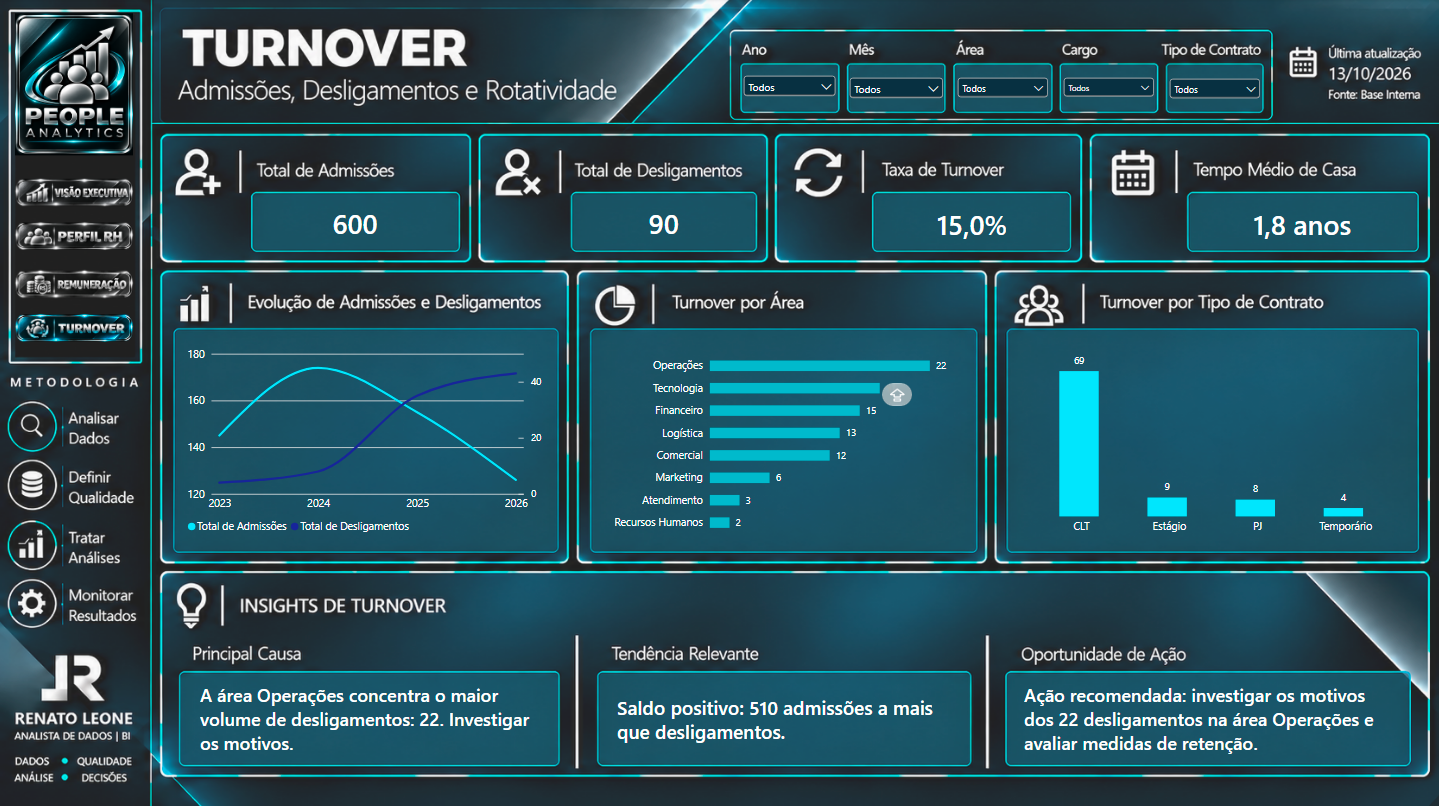

This screenshot's page, from the dashboard's own definition file:
{"tool":"powerbi","page":{"name":"TURNOVER","canvas":[1920,1080],"ordinal":3},"visuals":[{"type":"image","box":[17,216,168,83],"z":0},{"type":"image","box":[17.1,280.7,167.9,69.3],"z":1000},{"type":"image","box":[17.1,341.4,167.9,75.7],"z":2000},{"type":"image","box":[17.1,401.4,167.9,72.9],"z":3000},{"type":"image","box":[23,13,157,203],"z":4000},{"type":"slicer","fields":{"Values":["funcionarios.area"]},"box":[1271.3,101.7,129.6,42.6],"z":4001},{"type":"slicer","fields":{"Values":["funcionarios.cargo_reduzido"]},"box":[1412.2,101.7,129.6,42.6],"z":4002},{"type":"slicer","fields":{"Values":["funcionarios.tipo_contrato"]},"box":[1553.3,102,130,42.7],"z":4003},{"type":"slicer","fields":{"Values":["dim_calendario.mes_nome_PT"]},"box":[1127.7,101.5,133.8,42.3],"z":4004},{"type":"slicer","fields":{"Values":["dim_calendario.ano"]},"box":[986.9,98.5,132.3,42.3],"z":4005},{"type":"cardVisual","fields":{"Data":["Medidas.Total de Admissões"]},"box":[325.3,256,298.7,85.3],"z":4006},{"type":"cardVisual","fields":{"Data":["Medidas.Total de Desligamentos"]},"box":[761.3,257.3,249.3,84],"z":4007},{"type":"cardVisual","fields":{"Data":["Medidas.Tempo Médio de Empresa"]},"box":[1606.7,257.3,256,85.3],"z":4008},{"type":"cardVisual","fields":{"Data":["Medidas.Taxa de Turnover"]},"box":[1168,257.3,256,85.3],"z":4009},{"type":"lineChart","fields":{"Category":["dim_calendario.ano_mes.Variation.Hierarquia de datas.Ano","dim_calendario.ano_mes.Variation.Hierarquia de datas.Trimestre","dim_calendario.ano_mes.Variation.Hierarquia de datas.Mês","dim_calendario.ano_mes.Variation.Hierarquia de datas.Dia"],"Y":["Medidas.Total de Admissões"],"Y2":["Medidas.Total de Desligamentos"]},"box":[236,448,505.3,285.3],"z":4010},{"type":"clusteredBarChart","fields":{"Category":["funcionarios.area"],"Y":["Medidas.Total de Desligamentos"]},"box":[796,448,500,285.3],"z":4011},{"type":"clusteredColumnChart","fields":{"Category":["funcionarios.tipo_contrato"],"Y":["Medidas.Total de Desligamentos"]},"box":[1349.3,448,536,285.3],"z":4012},{"type":"cardVisual","fields":{"Data":["Medidas.Principal Causa Turnover"]},"box":[253.3,869.3,488,177.3],"z":4013},{"type":"cardVisual","fields":{"Data":["Medidas.Tendência Relevante Turnover"]},"box":[808,898.7,477.3,120],"z":4014},{"type":"cardVisual","fields":{"Data":["Medidas.Oportunidade de Ação Turnover"]},"box":[1349.3,874.7,524,166.7],"z":4015}]}

Visuals, with their boxes in screenshot pixels (x1, y1, x2, y2), scaled from the page's 1920x1080 canvas onto the 1439x806 screenshot:
image: 13:161:139:223
image: 13:209:139:261
image: 13:255:139:311
image: 13:300:139:354
image: 17:10:135:161
slicer - funcionarios.area: 953:76:1050:108
slicer - funcionarios.cargo_reduzido: 1058:76:1156:108
slicer - funcionarios.tipo_contrato: 1164:76:1262:108
slicer - dim_calendario.mes_nome_PT: 845:76:945:107
slicer - dim_calendario.ano: 740:74:839:105
cardVisual - Medidas.Total de Admissões: 244:191:468:255
cardVisual - Medidas.Total de Desligamentos: 571:192:757:255
cardVisual - Medidas.Tempo Médio de Empresa: 1204:192:1396:256
cardVisual - Medidas.Taxa de Turnover: 875:192:1067:256
lineChart - dim_calendario.ano_mes.Variation.Hierarquia de datas.Ano x dim_calendario.ano_mes.Variation.Hierarquia de datas.Trimestre: 177:334:556:547
clusteredBarChart - funcionarios.area x Medidas.Total de Desligamentos: 597:334:971:547
clusteredColumnChart - funcionarios.tipo_contrato x Medidas.Total de Desligamentos: 1011:334:1413:547
cardVisual - Medidas.Principal Causa Turnover: 190:649:556:781
cardVisual - Medidas.Tendência Relevante Turnover: 606:671:963:760
cardVisual - Medidas.Oportunidade de Ação Turnover: 1011:653:1404:777
